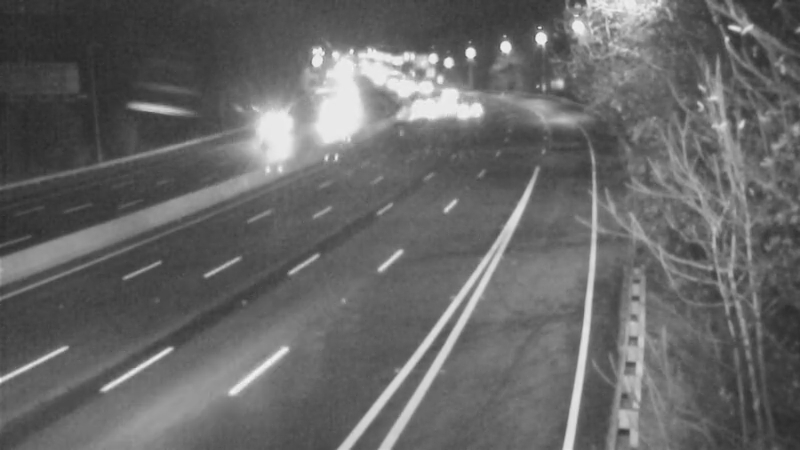vehicle: (427, 81, 477, 131), (443, 88, 493, 138), (401, 79, 451, 129), (390, 92, 440, 142), (243, 112, 293, 162), (300, 105, 350, 155)
